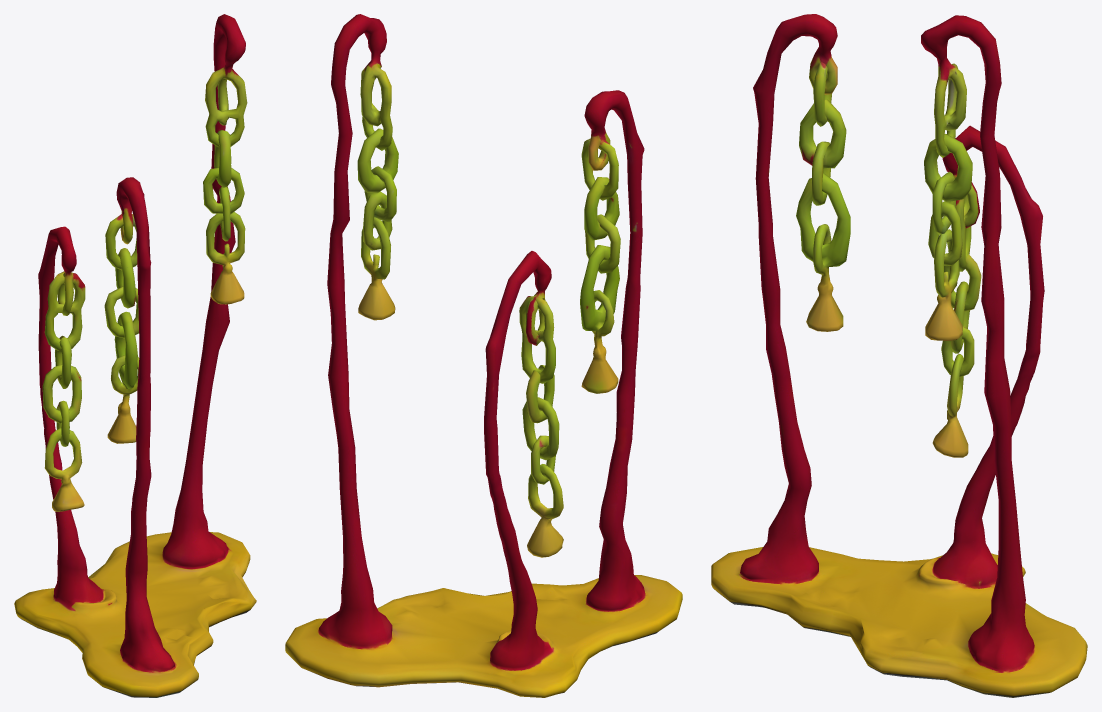
3 renders of one model, left to right at view 1: azimuth 30°, elevation 25°; view 2: azimuth 150°, elevation 25°; view 3: azimuth 270°, elevation 25°, orthographic. The views are drawn at different scales.
Parts seen in each view (by area): view 1: tripo_node_dd45334e-8d6e-4be2-a1ab-a4a8d4d48289; view 2: tripo_node_dd45334e-8d6e-4be2-a1ab-a4a8d4d48289; view 3: tripo_node_dd45334e-8d6e-4be2-a1ab-a4a8d4d48289.
Boxes of the visible parts, x1=… form: tripo_node_dd45334e-8d6e-4be2-a1ab-a4a8d4d48289: x1=14, y1=14, x2=256, y2=697; tripo_node_dd45334e-8d6e-4be2-a1ab-a4a8d4d48289: x1=285, y1=14, x2=682, y2=697; tripo_node_dd45334e-8d6e-4be2-a1ab-a4a8d4d48289: x1=711, y1=14, x2=1087, y2=697.
Size of the model in its own units: 0.456 by 1 by 0.5127.
1 material, 1 textured.
